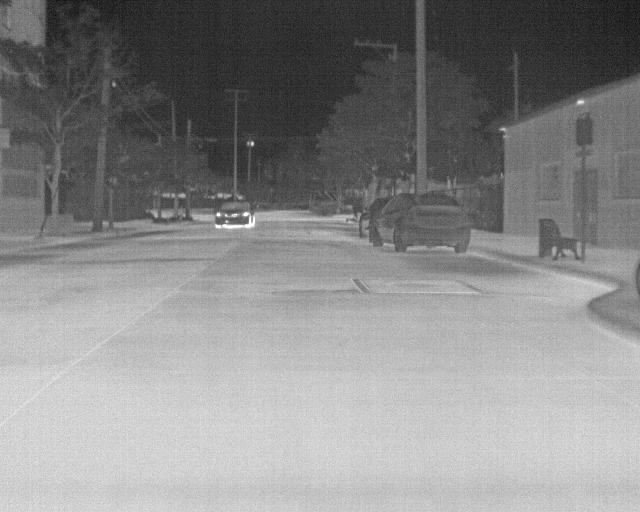car: (376, 192, 471, 256), (358, 196, 389, 246), (213, 198, 256, 229)
